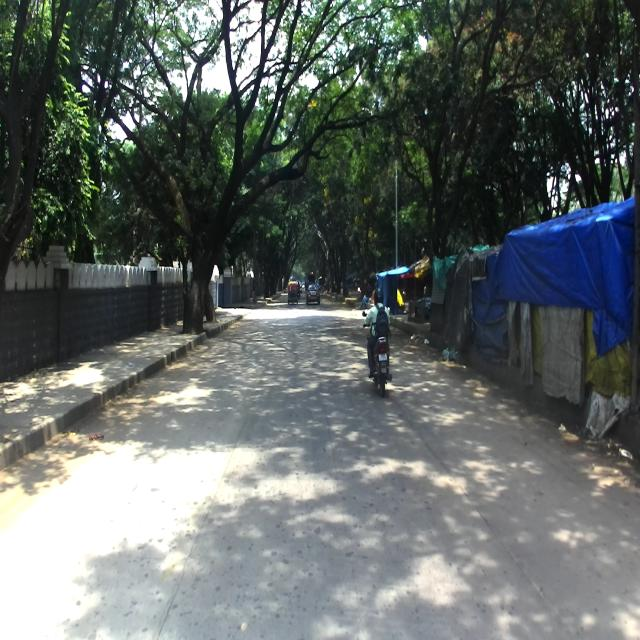motorcycle ahead at: (366, 333, 394, 394)
tree ahead at: (160, 163, 242, 336)
